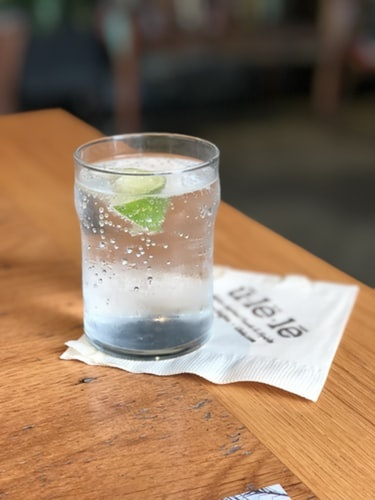whiskey: (74, 133, 230, 363)
